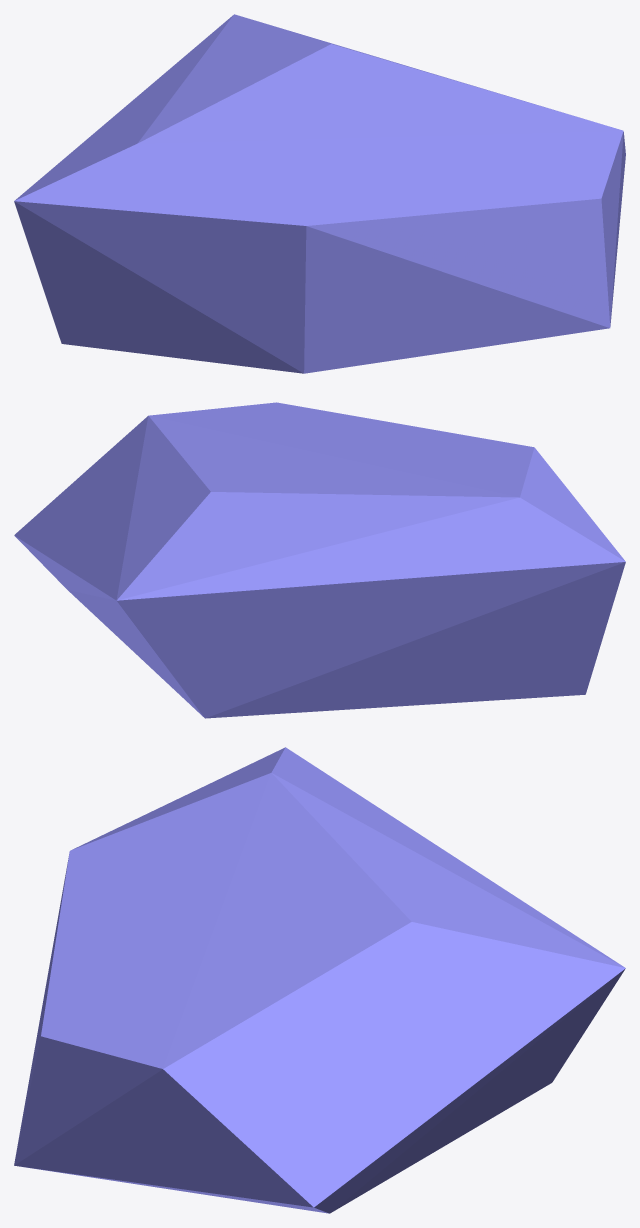
File: Rock_07_Collider_01.FBX
3 renders of one model, top to bottom at view 1: azimuth 30°, elevation 25°; view 2: azimuth 150°, elevation 25°; view 3: azimuth 270°, elevation 25°, orthographic. The views are drawn at different scales.
Visible parts, largest first — view 1: COLLIDER1; view 2: COLLIDER1; view 3: COLLIDER1.
Boxes of the visible parts, x1=… form: COLLIDER1: x1=14, y1=14, x2=625, y2=373; COLLIDER1: x1=14, y1=402, x2=625, y2=718; COLLIDER1: x1=14, y1=747, x2=625, y2=1213.
Bounding box in the file's own units: 41.93 × 11.88 × 32.46.
